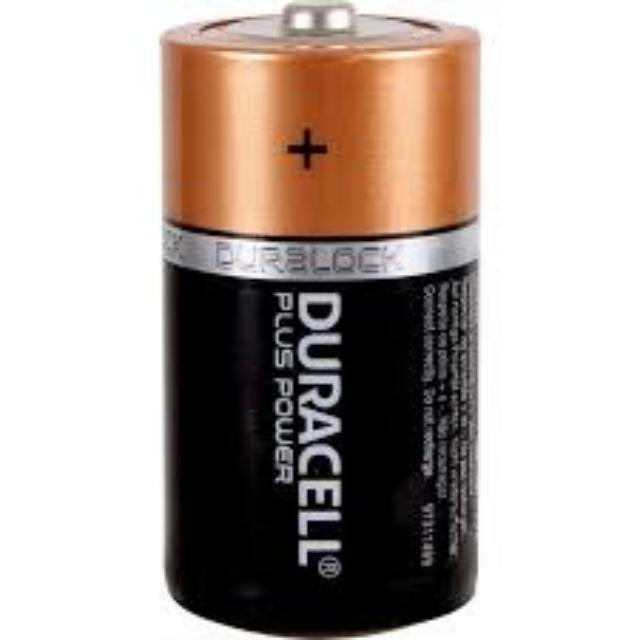Battery: (159, 3, 484, 637)
